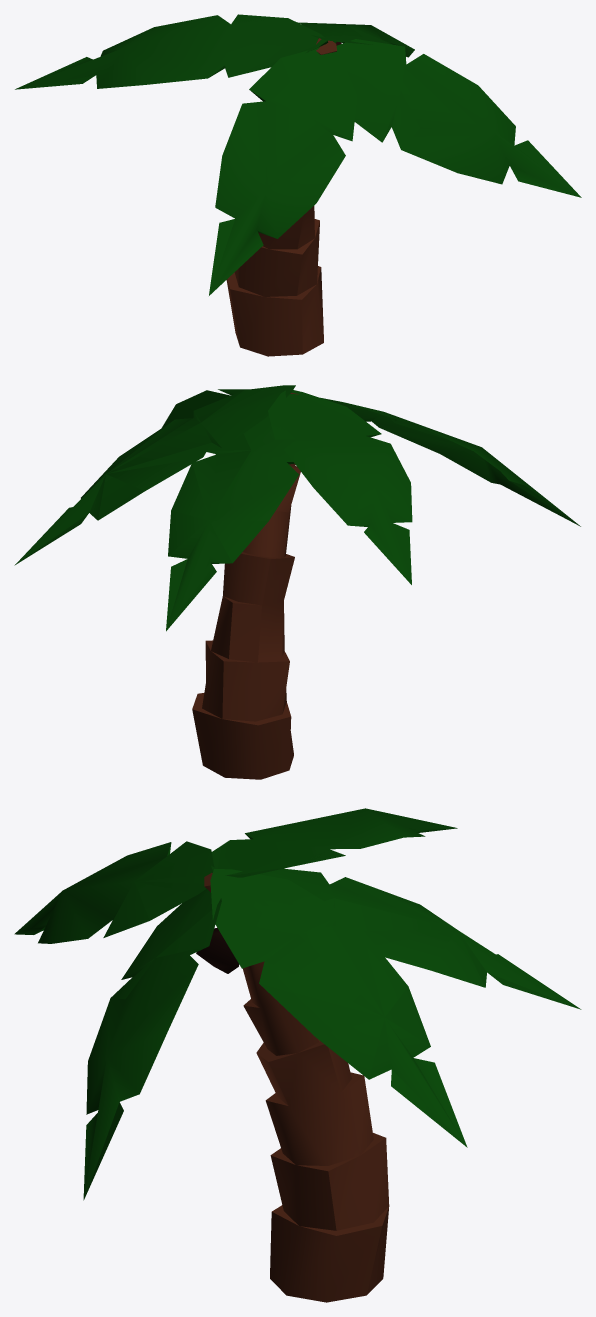
The model's file is cay1.fbx.
3 renders of one model, top to bottom at view 1: azimuth 30°, elevation 25°; view 2: azimuth 150°, elevation 25°; view 3: azimuth 270°, elevation 25°, orthographic. The views are drawn at different scales.
Visible parts, largest first — view 1: VIFS002, VIFS001, VIFS003, VIFS007, VIFS005; view 2: VIFS007, VIFS004, VIFS003, VIFS005, VIFS002, VIFS001; view 3: VIFS007, VIFS005, VIFS001, VIFS004, VIFS002, VIFS003, VIFS006.
Part boxes in pixels (<box>): VIFS002: <box>209,47,357,295</box>; VIFS001: <box>336,39,581,197</box>; VIFS003: <box>15,14,328,89</box>; VIFS007: <box>226,38,336,356</box>; VIFS005: <box>297,22,414,57</box>; VIFS007: <box>192,392,300,779</box>; VIFS004: <box>166,415,299,631</box>; VIFS003: <box>268,390,412,584</box>; VIFS005: <box>14,385,295,565</box>; VIFS002: <box>320,397,580,526</box>; VIFS001: <box>162,389,263,454</box>; VIFS007: <box>204,873,389,1302</box>; VIFS005: <box>210,869,467,1147</box>; VIFS001: <box>83,888,221,1200</box>; VIFS004: <box>258,868,581,1009</box>; VIFS002: <box>14,841,214,943</box>; VIFS003: <box>211,808,457,877</box>; VIFS006: <box>196,928,239,973</box>.
Bounding box in the file's own units: 3.54 × 2.69 × 3.38.
